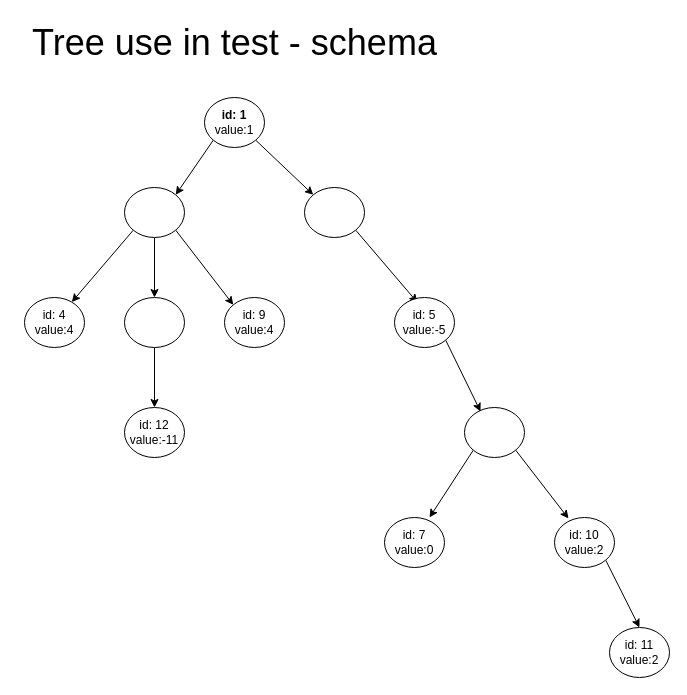
Image size: 687x695. Some labels were removed from this diagram. Each missing label, with the centre of its shape:
"id: 2 value:3" belongs at pixel 154 212.
"id: 3 value:4" belongs at pixel 334 212.
"id: 6 value:0" belongs at pixel 494 432.
"id: 8 value:-15" belongs at pixel 154 322.
